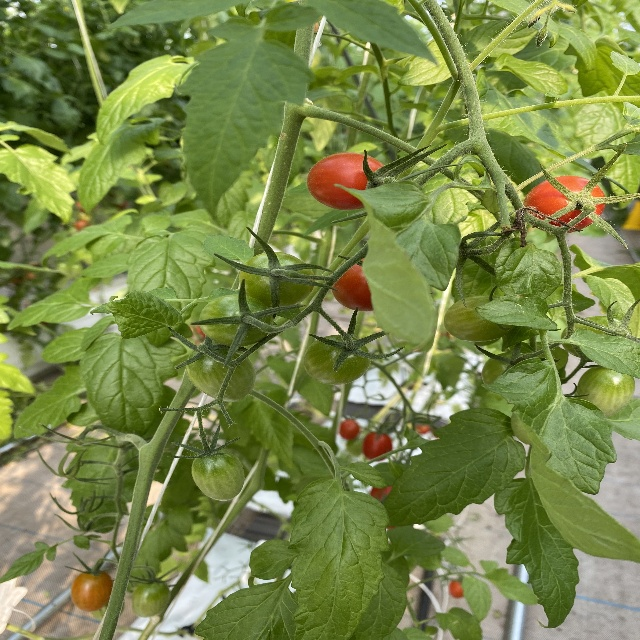l_fully_ripened: (305, 153, 391, 210), (522, 175, 606, 233), (332, 256, 374, 312)
l_green: (241, 251, 317, 310), (186, 344, 258, 402), (200, 294, 276, 347), (443, 296, 520, 343), (302, 335, 372, 386), (577, 365, 636, 417), (192, 448, 247, 501), (130, 578, 171, 618), (481, 353, 524, 384)
l_half_ripened: (71, 571, 114, 612)
